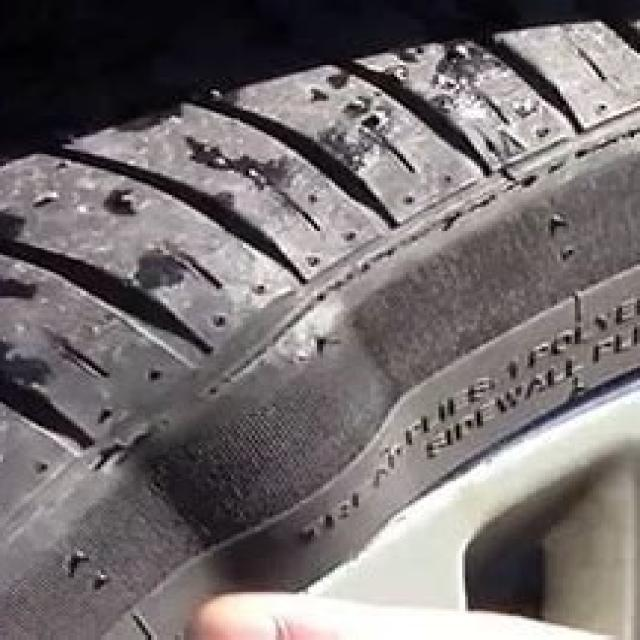Bulge: (109, 281, 442, 595)
